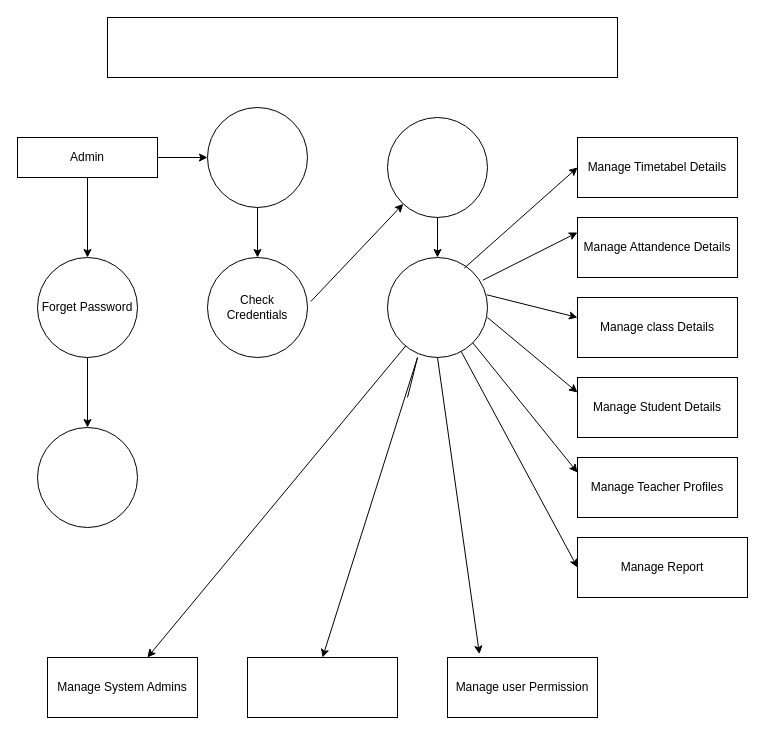
The diagram is 765 pixels wide and 735 high, and some of its shapes have lost their labels. The shapes that lost their labels are listed below. From the top down, each one's centre as x and y in pixels, then its label:
At point 362,47: "Student Information System".
At point 257,157: "Login to system".
At point 437,167: "Check Roles of access".
At point 437,307: "Manage Modulesd".
At point 87,477: "Send Email to user".
At point 322,687: "Manage Roles of User".
